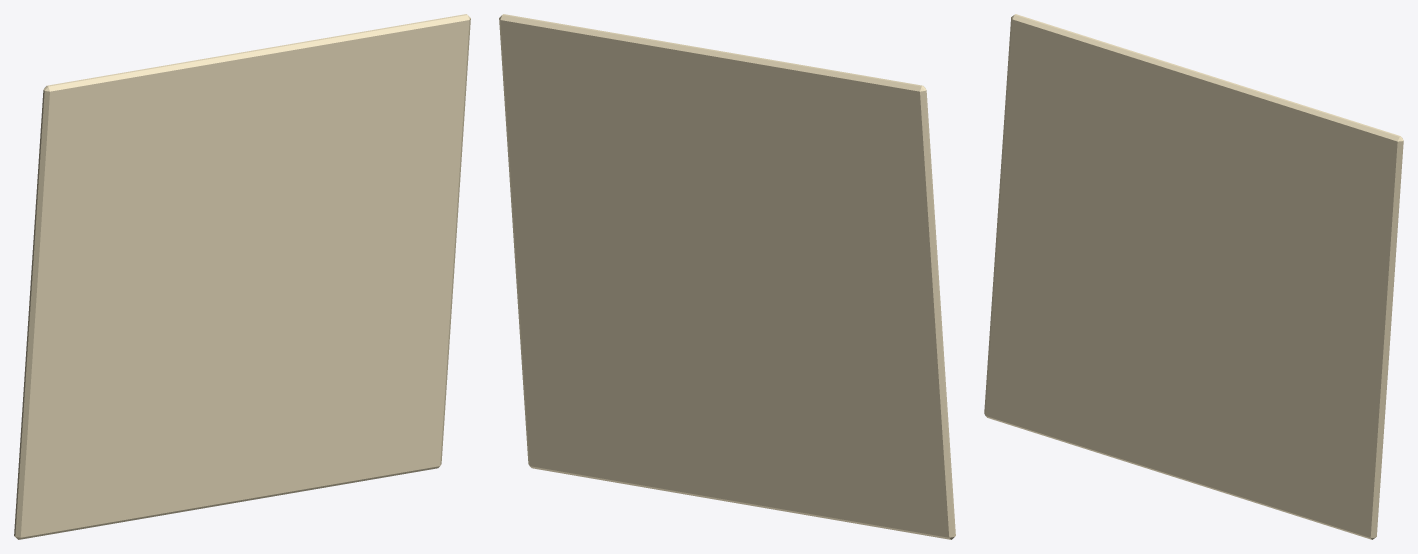
Rendered from nota_adesiva_amarela.glb.
3 renders of one model, left to right at view 1: azimuth 30°, elevation 25°; view 2: azimuth 150°, elevation 25°; view 3: azimuth 330°, elevation 25°, orthographic. The views are drawn at different scales.
Visible parts, largest first — view 1: nota_adesiva_amarela; view 2: nota_adesiva_amarela; view 3: nota_adesiva_amarela.
Part boxes in pixels (x1,y1,x2,y2): nota_adesiva_amarela: (14,14,470,539); nota_adesiva_amarela: (499,14,955,539); nota_adesiva_amarela: (984,14,1403,539).
Bounding box in the file's own units: 0.08 × 0.08 × 0.0016.
Materials: 1 (1 with a texture image).
